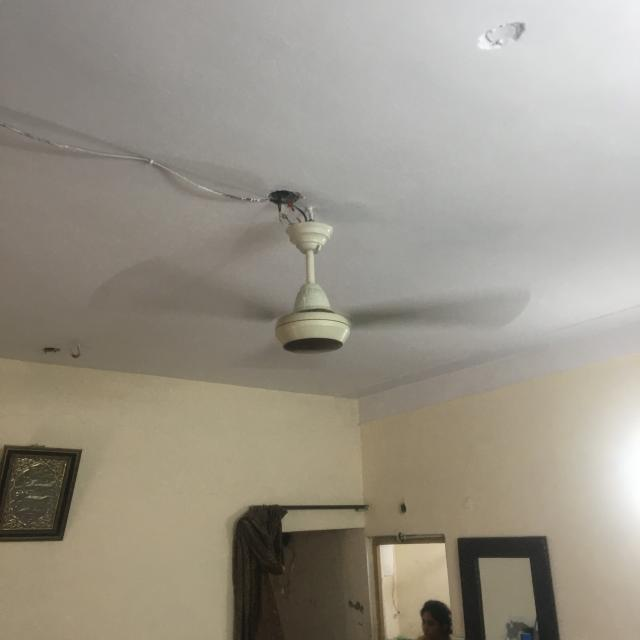on: (73, 249, 537, 385)
